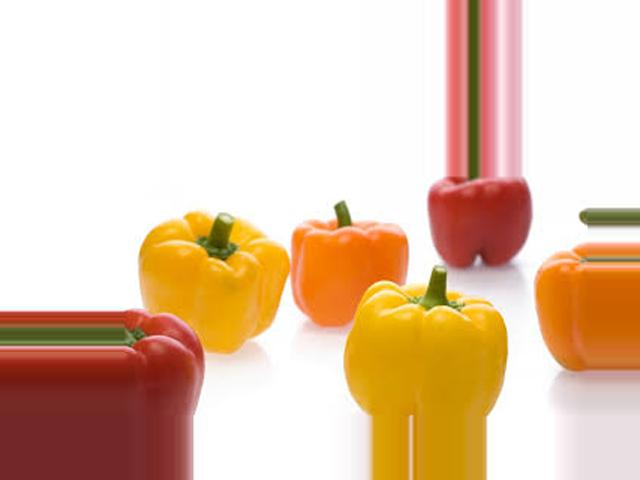bell_pepper: (526, 238, 589, 370)
